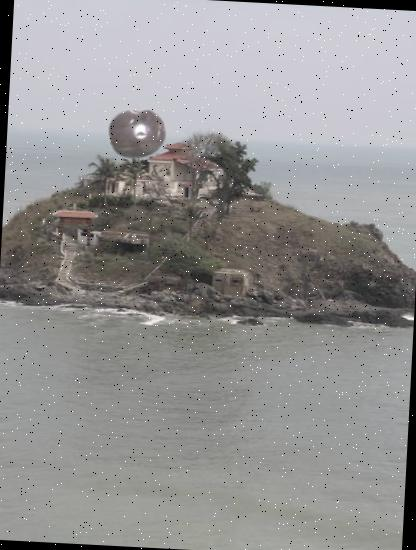Passion: (107, 102, 170, 164)
